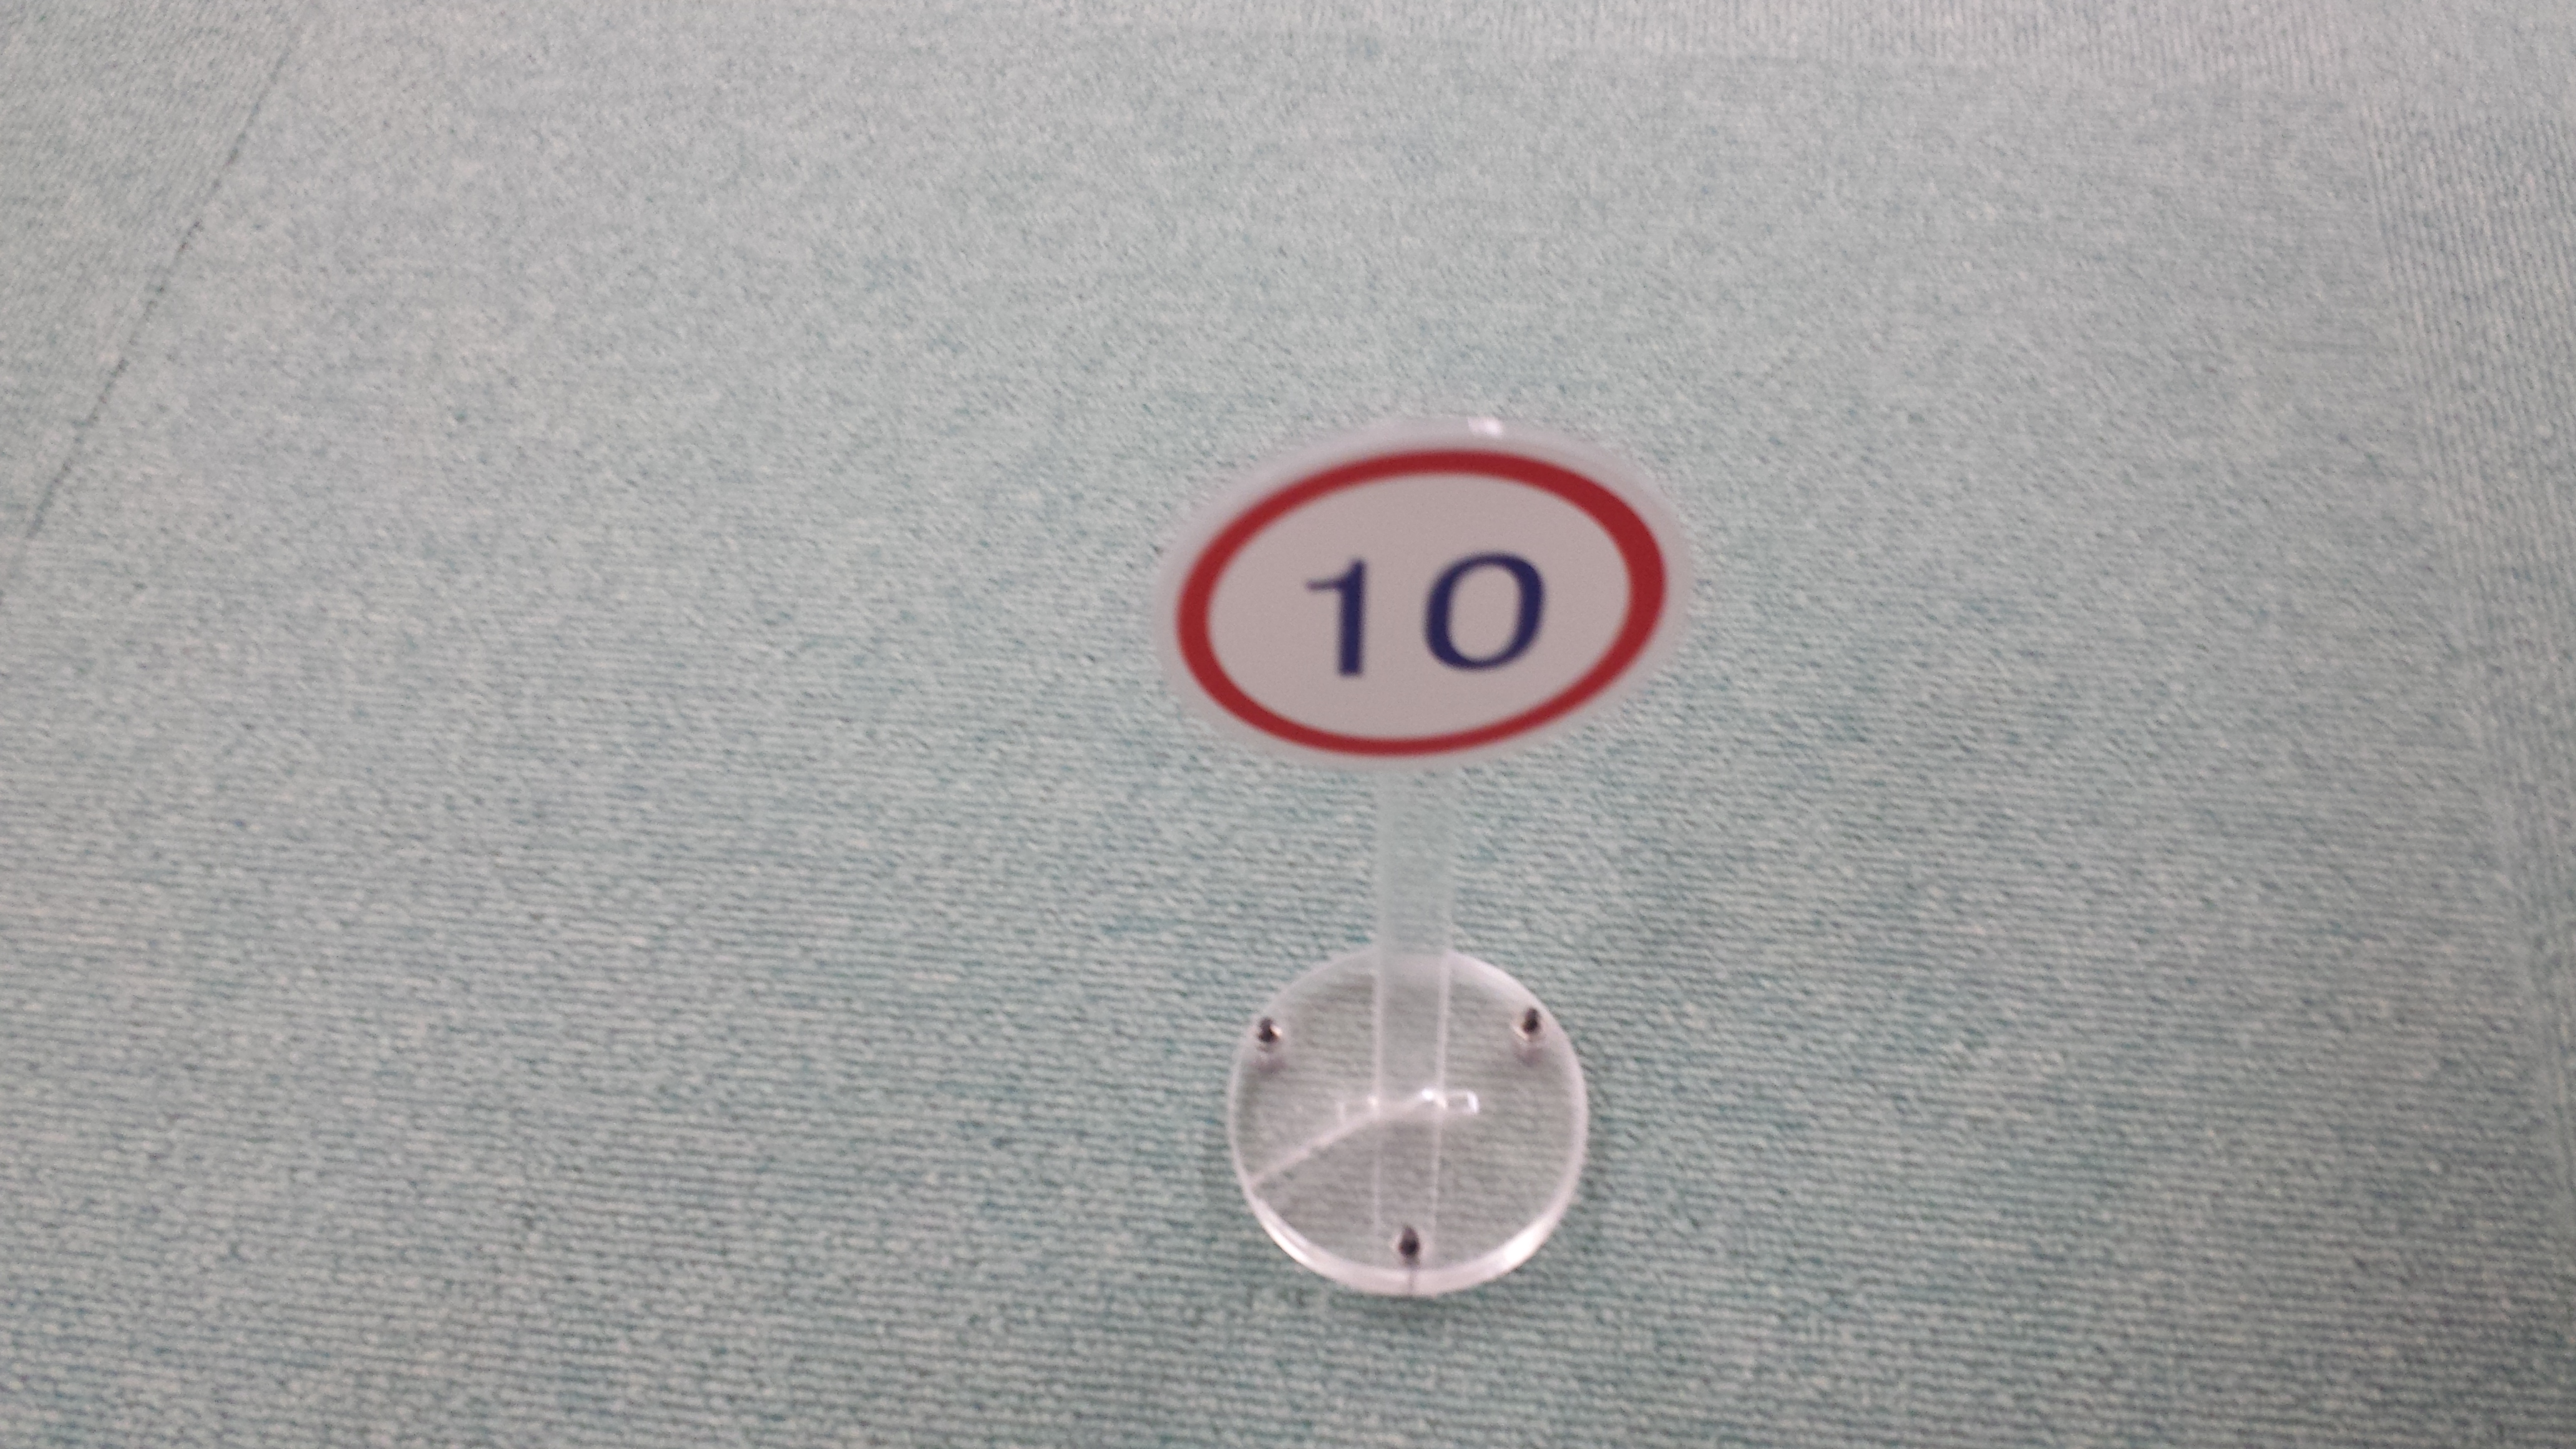speed_10: (1157, 428, 1691, 775)
